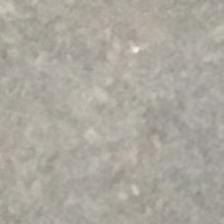Non_Crack: (72, 29, 224, 224)
